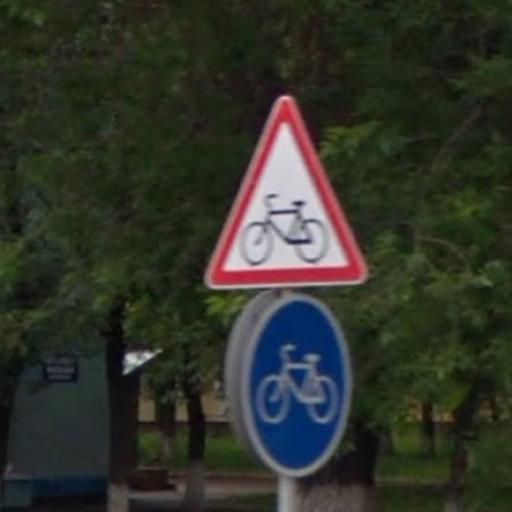traffic_sign: (202, 91, 376, 291), (241, 293, 354, 482)
